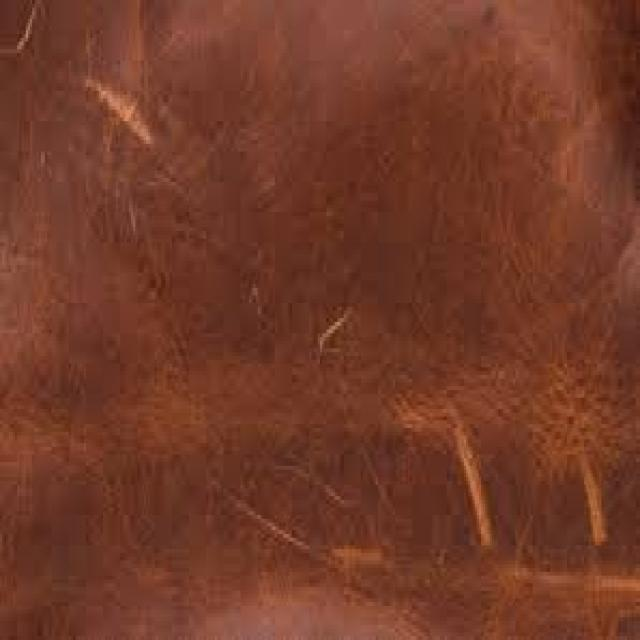Scratch: (406, 372, 517, 577), (78, 56, 182, 198)
